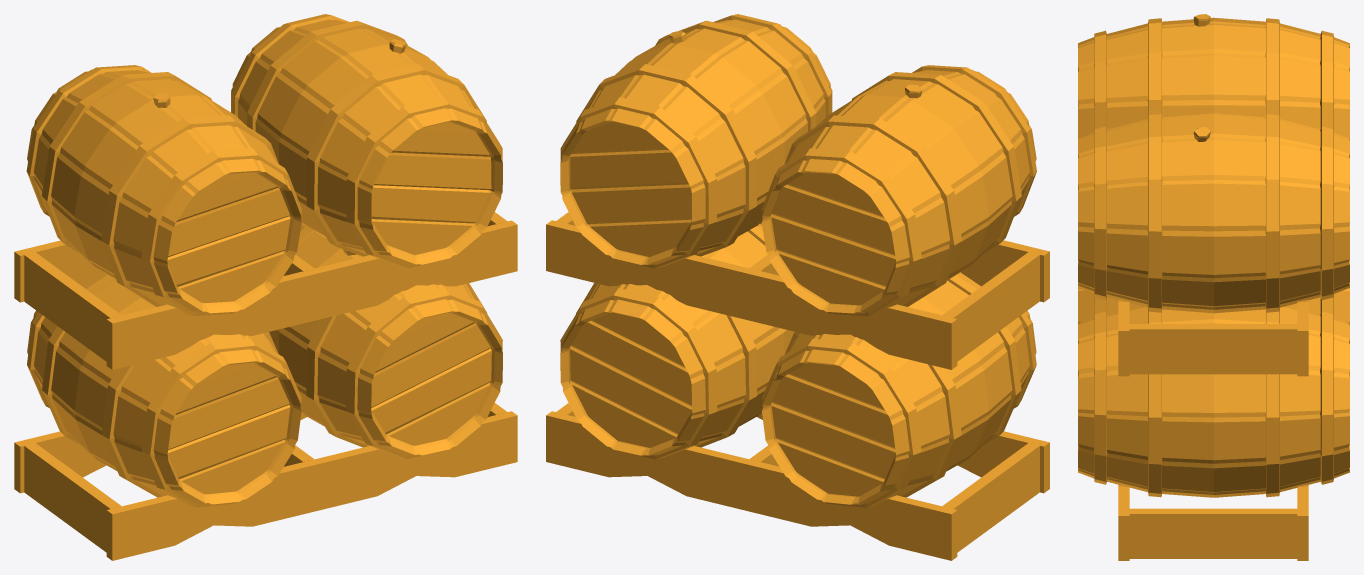
Rendered from SM_Barrel_Stand_2m_Double.fbx.
The picture shows the model from 3 angles, left to right: view 1: azimuth 30°, elevation 25°; view 2: azimuth 150°, elevation 25°; view 3: azimuth 270°, elevation 25°; orthographic projection. The views are drawn at different scales.
Visible parts, largest first — view 1: barrel-stand-2m-double; view 2: barrel-stand-2m-double; view 3: barrel-stand-2m-double.
Boxes of the visible parts, x1=… form: barrel-stand-2m-double: x1=14, y1=14, x2=517, y2=560; barrel-stand-2m-double: x1=546, y1=14, x2=1049, y2=560; barrel-stand-2m-double: x1=1078, y1=14, x2=1349, y2=560.
Size of the model in its own units: 2 by 1.94 by 1.2.
